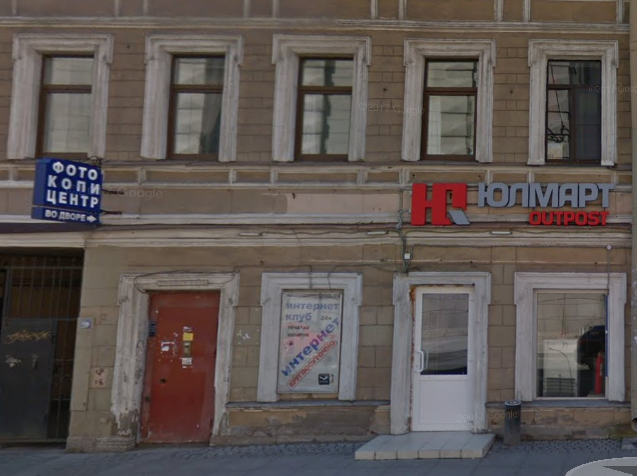arch: (1, 245, 87, 458)
cantilever: (29, 149, 125, 225)
door: (137, 286, 220, 446), (409, 283, 475, 437)
signboard: (403, 170, 621, 234)
window: (536, 288, 607, 401), (158, 52, 227, 160), (279, 289, 344, 403), (31, 50, 96, 157), (291, 53, 355, 160), (542, 54, 600, 164), (415, 56, 477, 157)
